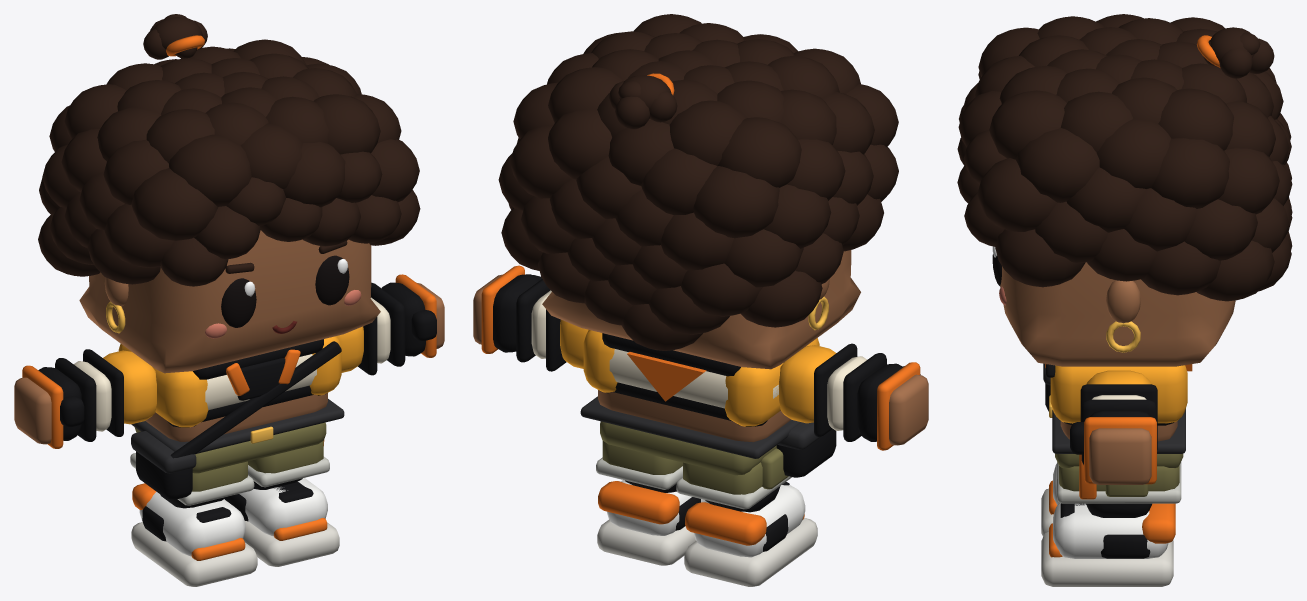
File: yun_urban_chibi_v09.glb
3 views of the same model, side by side, from view 1: azimuth 30°, elevation 25°; view 2: azimuth 150°, elevation 25°; view 3: azimuth 270°, elevation 25° (orthographic). The views are drawn at different scales.
Visible parts, largest first — view 1: Hair_Curls, Head, Shoe_R, Shorts, Shoe_L, Arm_R, Jacket, Hand_R, Arm_L, Hand_L, Bag, Eyes (+6 smaller); view 2: Hair_Curls, Shorts, Shoe_R, Jacket, Head, Arm_R, Shoe_L, Hand_R, Arm_L, Hand_L, Torso, Belt (+4 smaller); view 3: Hair_Curls, Head, Shoe_L, Hand_L, Jacket, Shorts, Arm_L, Hair_Ponytail, Belt, Leg_L, Shoe_R, Earrings.
Boxes of the visible parts, x1=… form: Hair_Curls: x1=38, y1=39, x2=420, y2=286; Head: x1=79, y1=230, x2=380, y2=373; Shoe_R: x1=131, y1=483, x2=257, y2=586; Shorts: x1=130, y1=422, x2=329, y2=505; Shoe_L: x1=224, y1=478, x2=339, y2=566; Arm_R: x1=55, y1=349, x2=156, y2=441; Jacket: x1=118, y1=336, x2=341, y2=427; Hand_R: x1=14, y1=365, x2=84, y2=448; Arm_L: x1=337, y1=282, x2=405, y2=375; Hand_L: x1=381, y1=274, x2=444, y2=357; Bag: x1=131, y1=431, x2=196, y2=499; Eyes: x1=221, y1=255, x2=349, y2=327; Hair_Curls: x1=498, y1=14, x2=898, y2=350; Shorts: x1=596, y1=421, x2=791, y2=509; Shoe_R: x1=684, y1=482, x2=817, y2=586; Jacket: x1=583, y1=330, x2=819, y2=426; Head: x1=542, y1=250, x2=860, y2=369; Arm_R: x1=779, y1=343, x2=886, y2=441; Shoe_L: x1=597, y1=480, x2=707, y2=565; Hand_R: x1=857, y1=362, x2=928, y2=450; Arm_L: x1=516, y1=279, x2=588, y2=371; Hand_L: x1=473, y1=265, x2=541, y2=353; Torso: x1=598, y1=390, x2=791, y2=442; Belt: x1=580, y1=396, x2=801, y2=458; Hair_Curls: x1=957, y1=14, x2=1292, y2=301; Head: x1=1000, y1=262, x2=1235, y2=366; Shoe_L: x1=1041, y1=503, x2=1175, y2=586; Hand_L: x1=1070, y1=410, x2=1156, y2=484; Jacket: x1=1050, y1=364, x2=1192, y2=423; Shorts: x1=1055, y1=453, x2=1183, y2=503; Arm_L: x1=1080, y1=370, x2=1157, y2=464; Hair_Ponytail: x1=1203, y1=27, x2=1274, y2=78; Belt: x1=1049, y1=395, x2=1185, y2=453; Leg_L: x1=1086, y1=503, x2=1151, y2=517; Shoe_R: x1=1041, y1=463, x2=1058, y2=536; Earrings: x1=1106, y1=321, x2=1140, y2=352.
Bounding box in the file's own units: 0.5873 × 0.672 × 0.3921.
